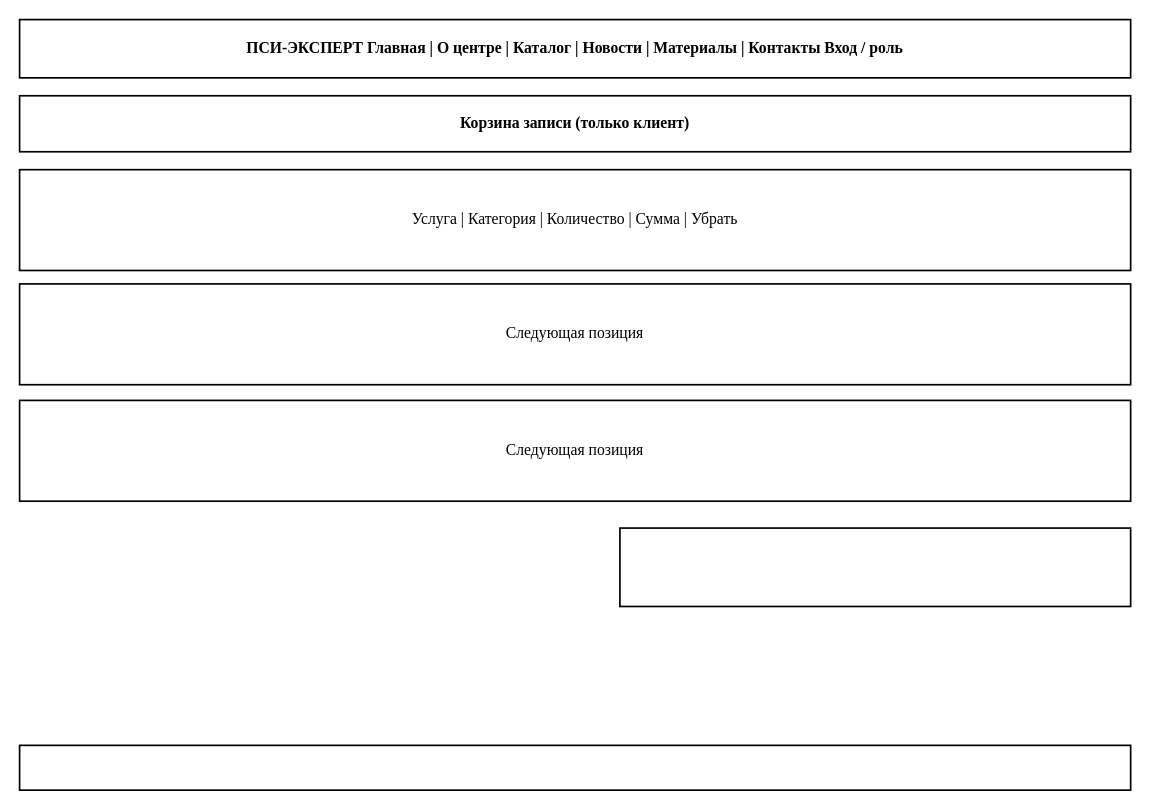
Some shapes in this 1151 by 811 pixel diagram are drawn without their labels. Each missing label, with the box of its shape:
Итого и кнопка «Оформить запись»: (619, 527, 1131, 607)
Пси-Эксперт · Псков · телефон · разработчик сайта: (18, 744, 1131, 790)
